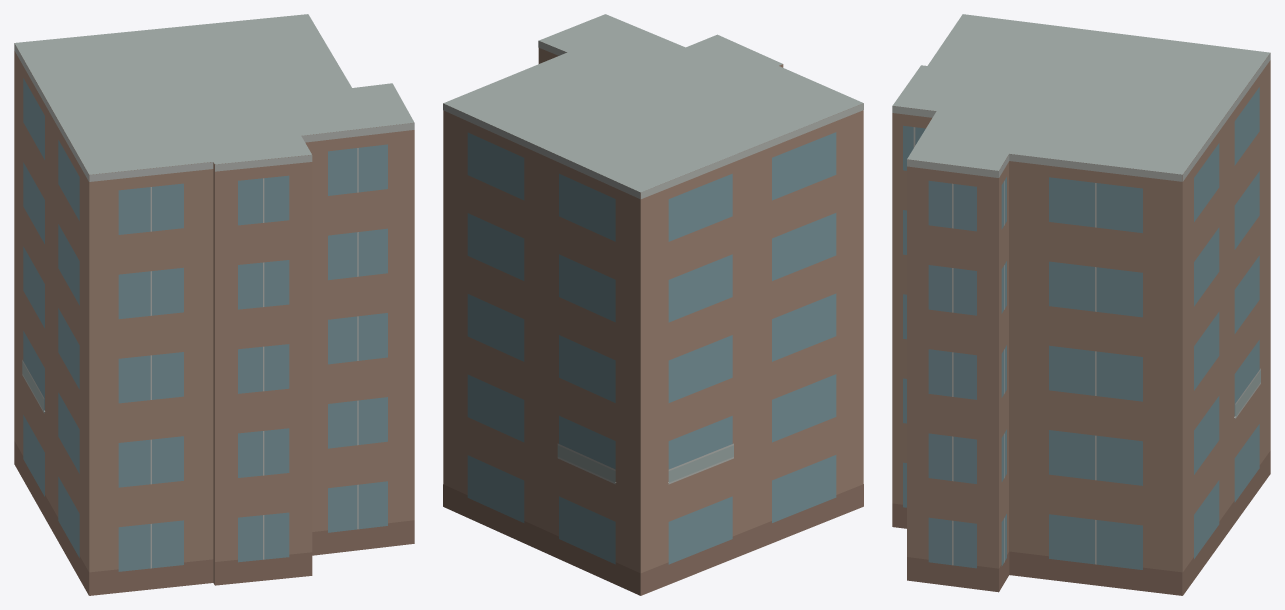
Rendered from survey-upis-32919670.glb.
The picture shows the model from 3 angles, left to right: view 1: azimuth 30°, elevation 25°; view 2: azimuth 150°, elevation 25°; view 3: azimuth 270°, elevation 25°; orthographic projection. The views are drawn at different scales.
Visible parts, largest first — view 1: survey-upis-32919670.tmp; view 2: survey-upis-32919670.tmp; view 3: survey-upis-32919670.tmp.
Boxes of the visible parts, x1=… form: survey-upis-32919670.tmp: x1=14, y1=14, x2=414, y2=595; survey-upis-32919670.tmp: x1=443, y1=14, x2=863, y2=595; survey-upis-32919670.tmp: x1=892, y1=14, x2=1270, y2=595.
Bounding box in the file's own units: 11.67 × 14.25 × 11.6.
